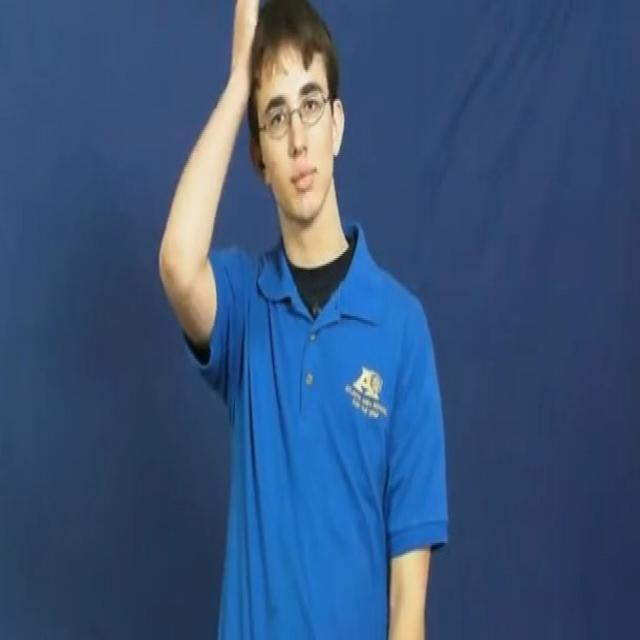lettuce: (158, 0, 257, 376)
